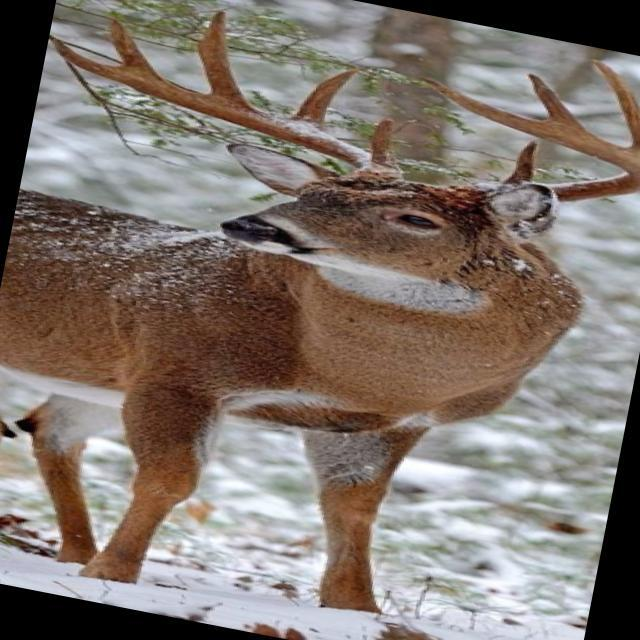L-G1: (503, 140, 537, 184)
L-G3: (594, 62, 640, 153)
L-G4: (527, 73, 587, 130)
R-G1: (371, 118, 399, 164)
R-G2: (288, 68, 361, 132)
R-G3: (198, 11, 250, 108)
R-G4: (109, 18, 161, 78)
